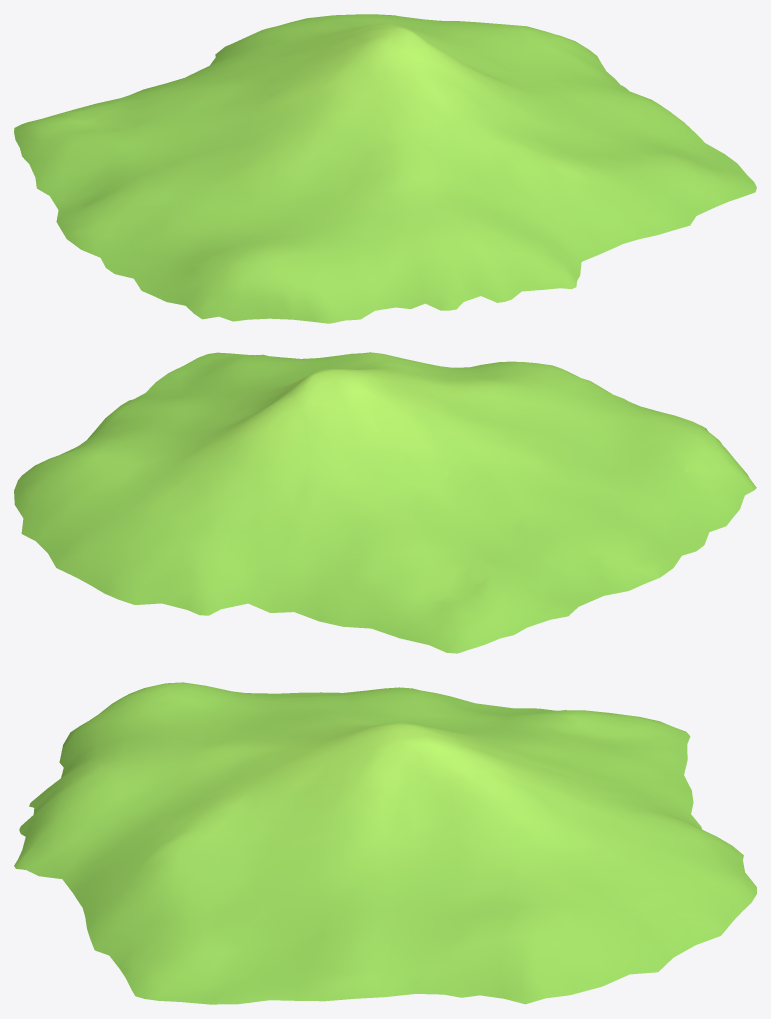
The model's file is Grass_02.glb.
The picture shows the model from 3 angles, top to bottom: view 1: azimuth 30°, elevation 25°; view 2: azimuth 150°, elevation 25°; view 3: azimuth 270°, elevation 25°; orthographic projection. The views are drawn at different scales.
Parts seen in each view (by area): view 1: Grass_02; view 2: Grass_02; view 3: Grass_02.
Part boxes in pixels (x1,y1,x2,y2): Grass_02: [14, 14, 756, 323]; Grass_02: [14, 352, 756, 653]; Grass_02: [14, 682, 756, 1004].
Size of the model in its own units: 57.01 by 11.53 by 56.93.
Materials: 1 (1 with a texture image).
